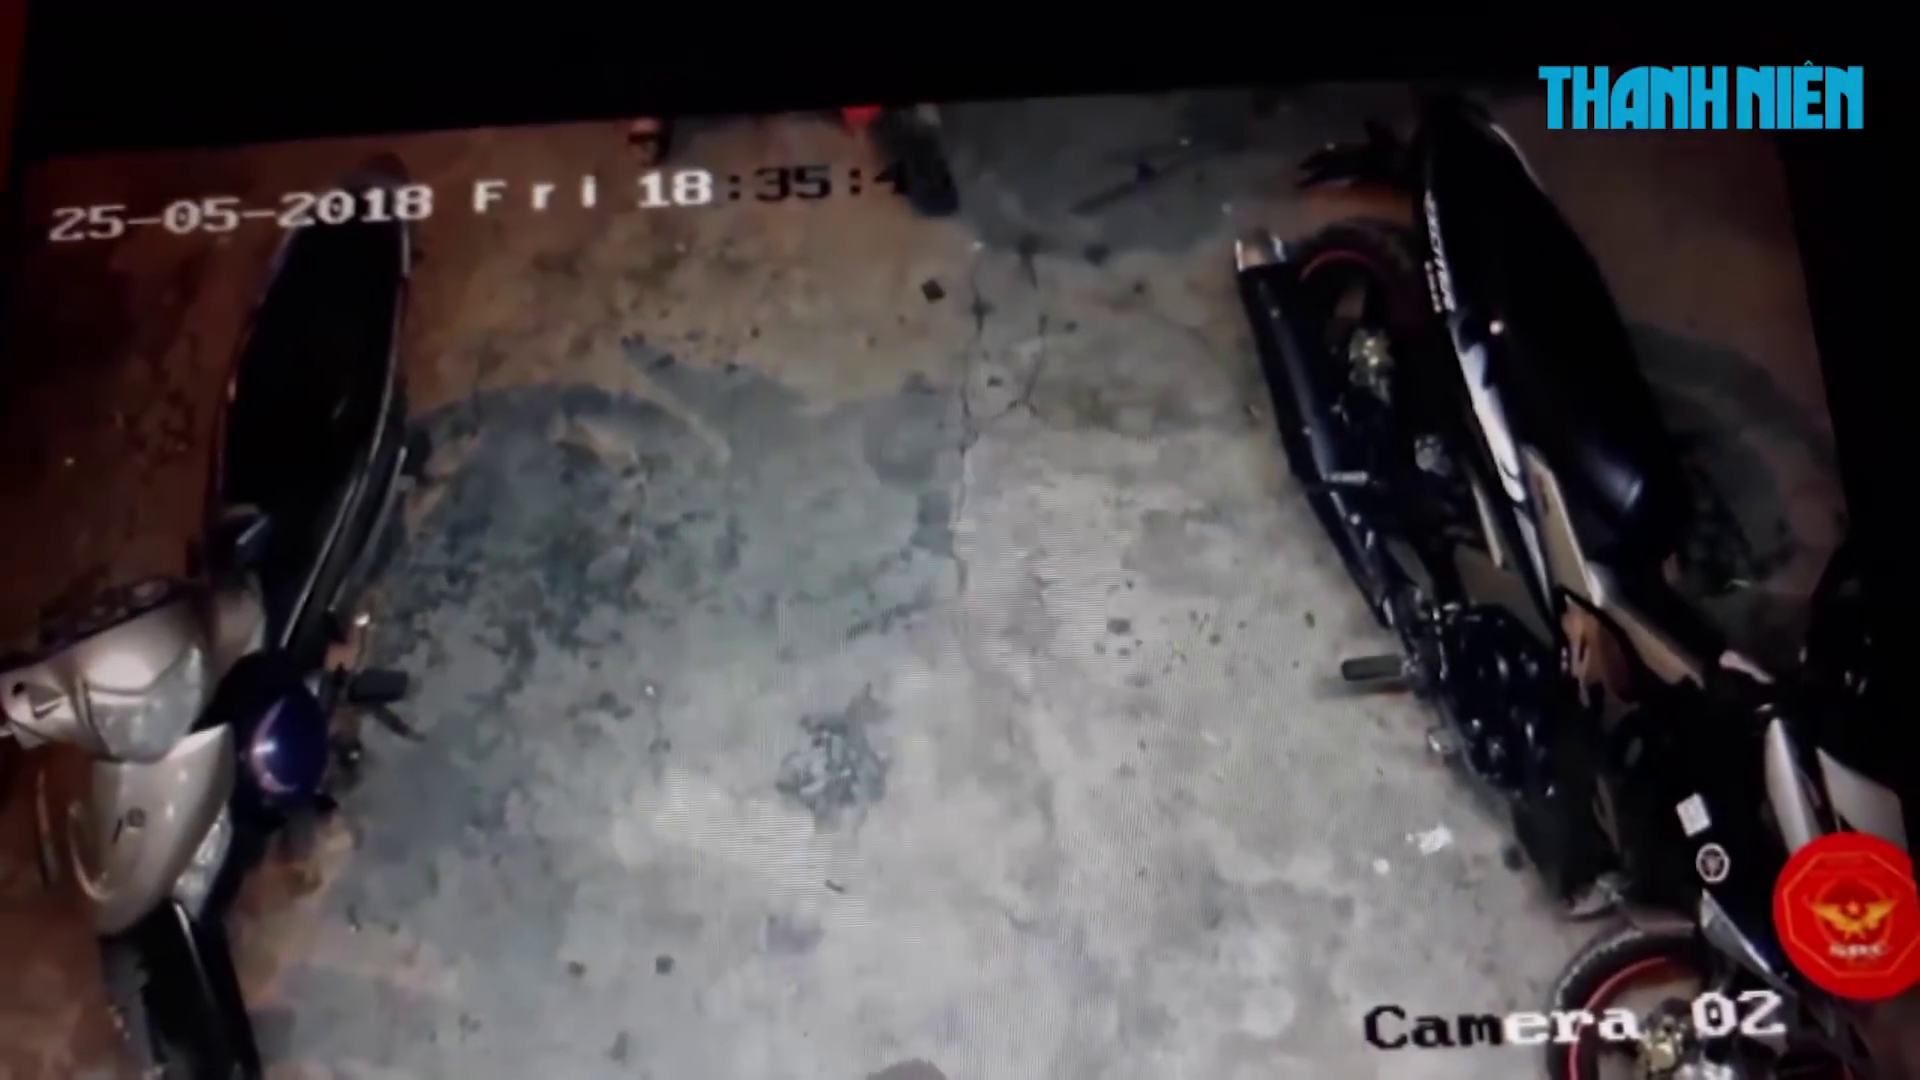Motorcycle: (1228, 82, 1919, 1059)
